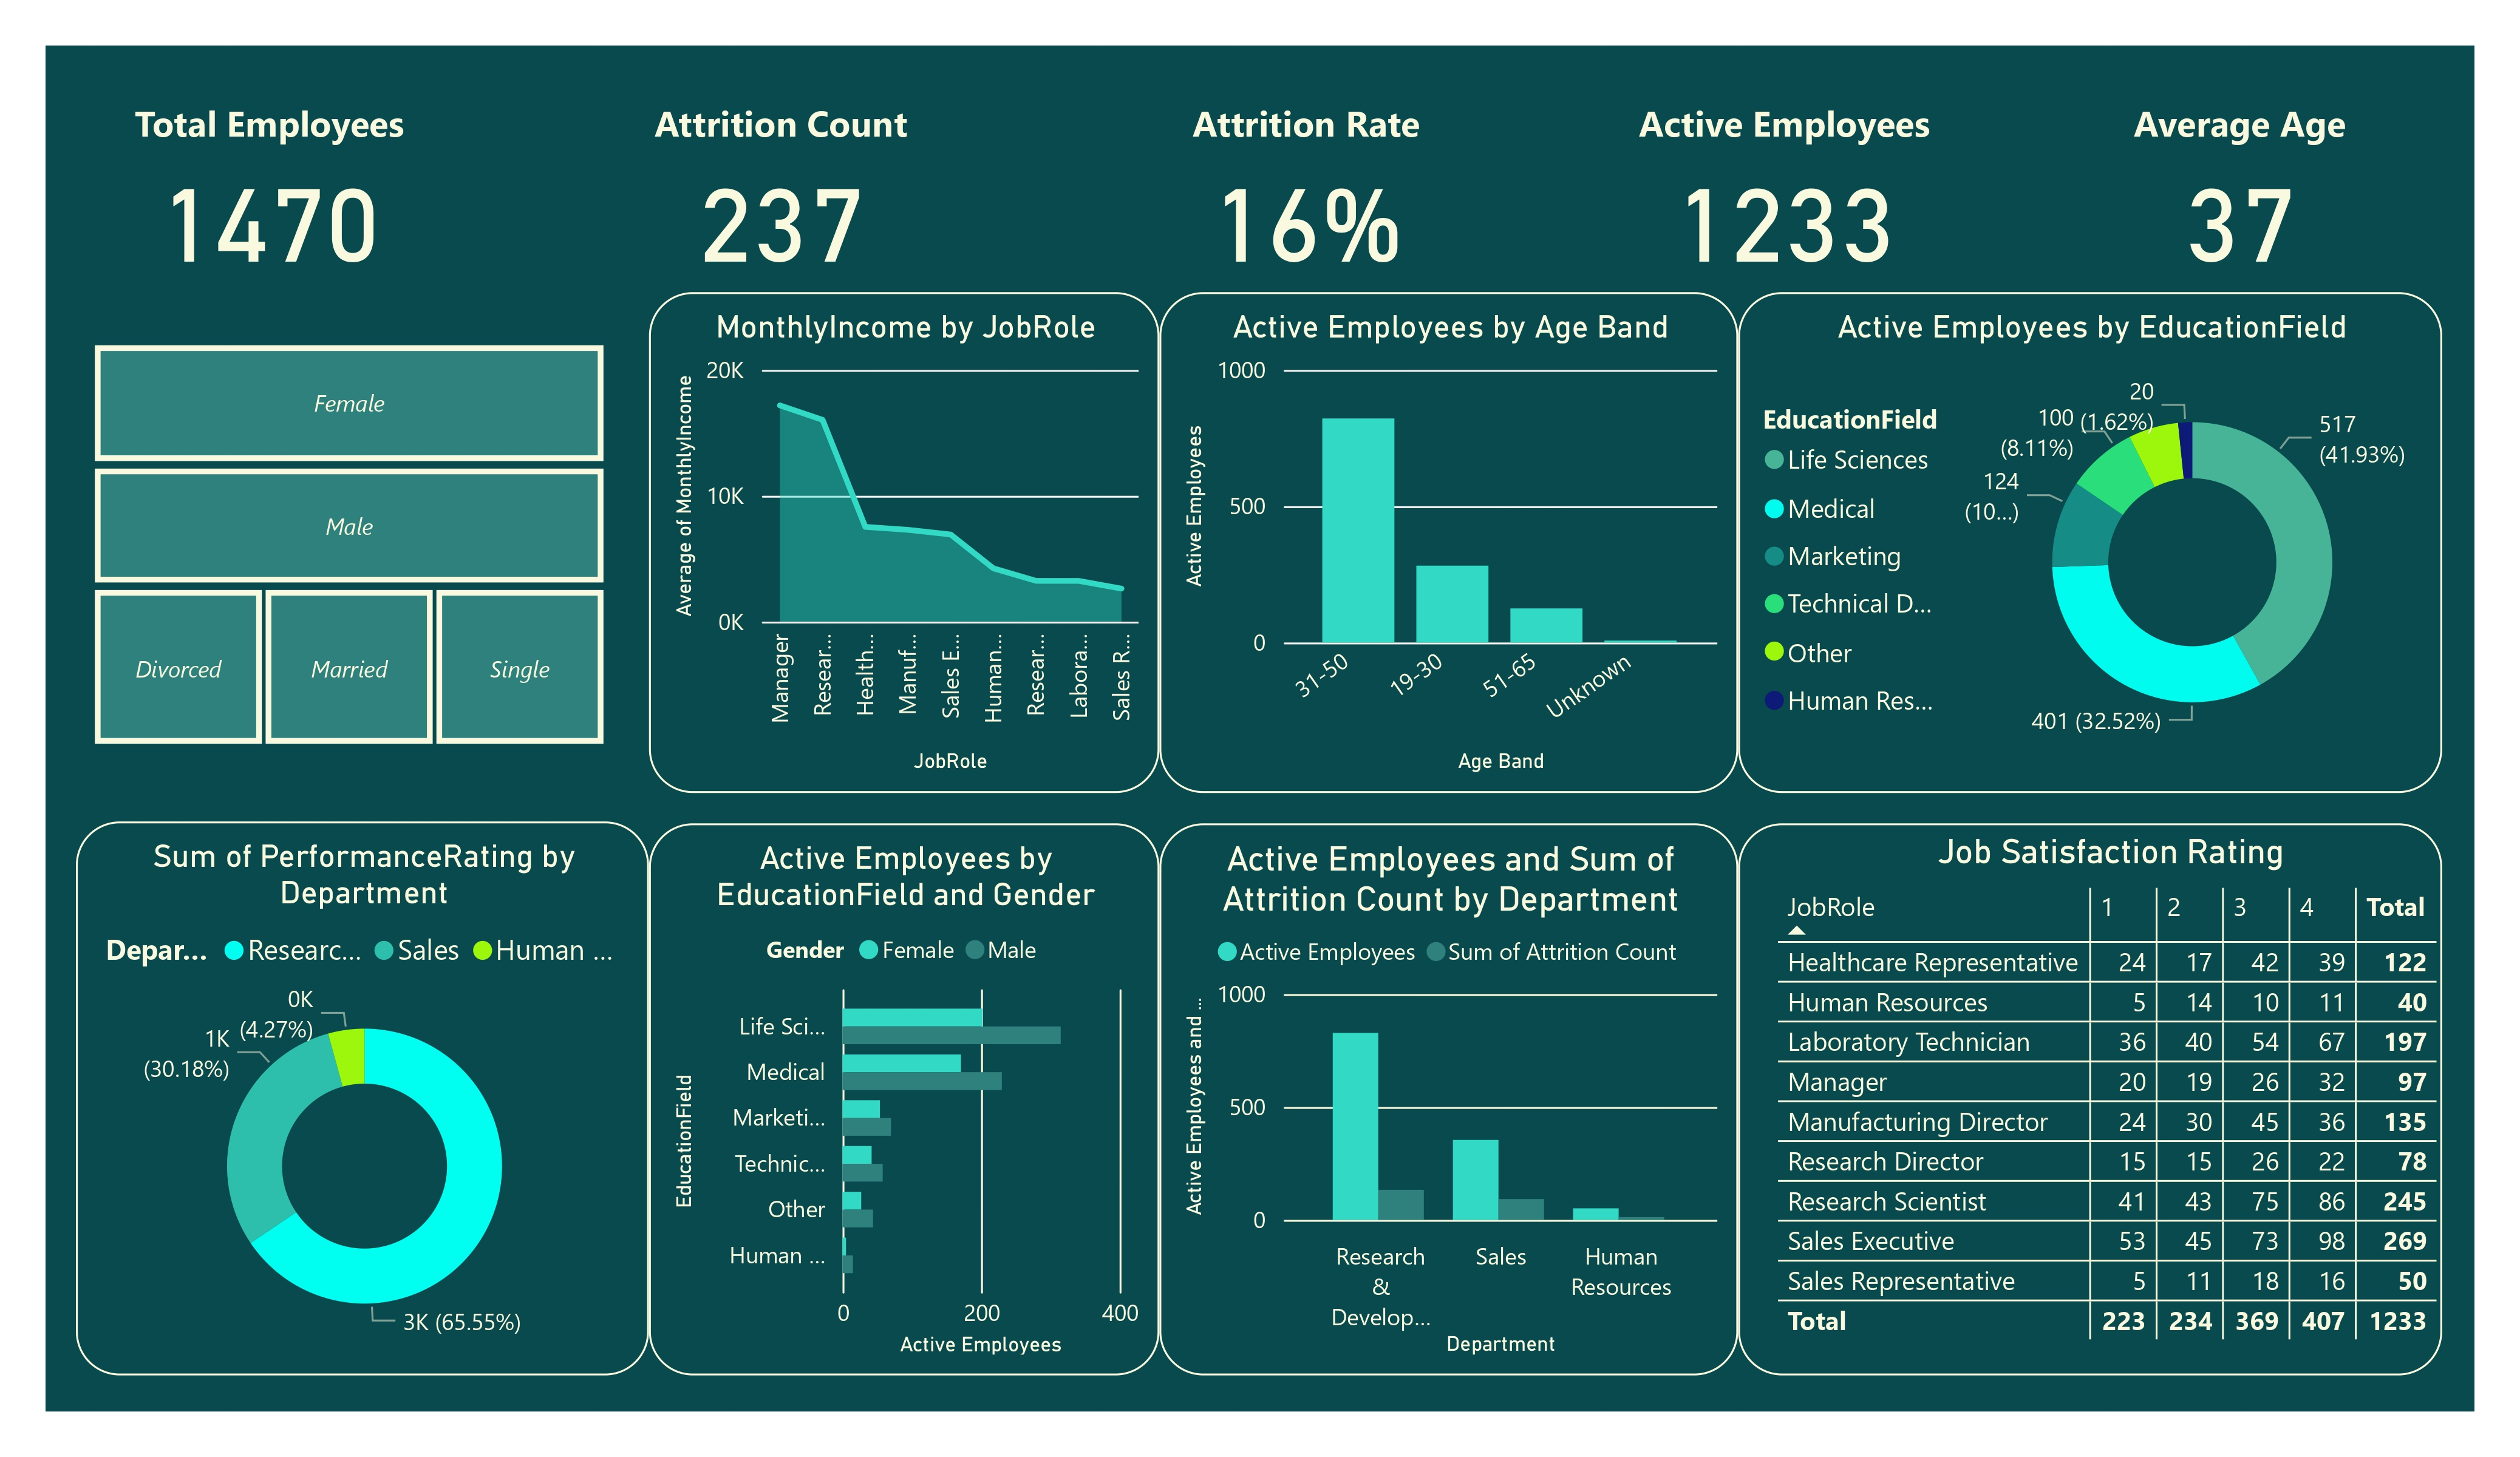

Layout of this report page (visuals, bound fields, positions):
{"tool":"powerbi","page":{"name":"Page 2","canvas":[1280,720],"ordinal":1},"visuals":[{"type":"card","title":"Total Employees","fields":{"Values":["Sum(Worksheet.EmployeeCount)"]},"box":[28.3,28.3,179.5,100.2],"z":0},{"type":"card","title":"Average Age","fields":{"Values":["Avg(Worksheet.Age)"]},"box":[1065.6,27.9,181.2,101.6],"z":1000},{"type":"card","title":"Attrition Rate","fields":{"Values":["Worksheet.Attrition Rate"]},"box":[573.6,27.9,181.2,101.6],"z":2000},{"type":"card","title":"Attrition Count","fields":{"Values":["Sum(Worksheet.Attrition Count)"]},"box":[296.8,27.9,181.2,101.6],"z":3000},{"type":"card","title":"Active Employees","fields":{"Values":["Worksheet.Active Employees"]},"box":[824.6,27.9,183.2,101.6],"z":4000},{"type":"clusteredColumnChart","title":"Active Employees and Sum of Attrition Count by Department","fields":{"Category":["Worksheet.Department"],"Y":["Worksheet.Active Employees","Sum(Worksheet.Attrition Count)"]},"box":[586.9,410.4,305.4,291.1],"z":5000},{"type":"donutChart","fields":{"Y":["Worksheet.Active Employees"],"Category":["Worksheet.EducationField"]},"box":[892.3,130.4,370.6,264],"z":6000},{"type":"columnChart","fields":{"Y":["Worksheet.Active Employees"],"Category":["Worksheet.Age Band"]},"box":[586.9,130.4,305.4,264],"z":7000},{"type":"pivotTable","title":"Job Satisfaction Rating","fields":{"Rows":["Worksheet.JobRole"],"Columns":["Worksheet.JobSatisfaction"],"Values":["Worksheet.Active Employees"]},"box":[892.3,410.4,370.6,291.1],"z":8000},{"type":"donutChart","fields":{"Category":["Worksheet.Department"],"Y":["Sum(Worksheet.PerformanceRating)"]},"box":[15.9,408.8,302.2,292.7],"z":9000},{"type":"clusteredBarChart","fields":{"Y":["Worksheet.Active Employees"],"Category":["Worksheet.EducationField"],"Series":["Worksheet.Gender"]},"box":[318.1,410.4,268.8,291.1],"z":10000},{"type":"areaChart","title":"MonthlyIncome by JobRole","fields":{"Category":["Worksheet.JobRole"],"Y":["Avg(Worksheet.MonthlyIncome)"]},"box":[318.1,130.4,268.8,264],"z":11000},{"type":"slicer","fields":{"Values":["Worksheet.Gender"]},"box":[0,151.1,318.1,133.6],"z":12000},{"type":"slicer","fields":{"Values":["Worksheet.MaritalStatus"]},"box":[0,284.7,318.1,97],"z":13000}]}

Visuals, with their boxes in screenshot pixels (x1, y1, x2, y2):
"Total Employees" card: bbox=(99, 99, 440, 290)
"Average Age" card: bbox=(2068, 98, 2411, 291)
"Attrition Rate" card: bbox=(1134, 98, 1478, 291)
"Attrition Count" card: bbox=(608, 98, 953, 291)
"Active Employees" card: bbox=(1610, 98, 1958, 291)
"Active Employees and Sum of Attrition Count by Department" clusteredColumnChart: bbox=(1159, 824, 1738, 1376)
donutChart - Worksheet.Active Employees x Worksheet.EducationField: bbox=(1738, 293, 2442, 794)
columnChart - Worksheet.Active Employees x Worksheet.Age Band: bbox=(1159, 293, 1738, 794)
"Job Satisfaction Rating" pivotTable: bbox=(1738, 824, 2442, 1376)
donutChart - Worksheet.Department x Sum(Worksheet.PerformanceRating): bbox=(76, 821, 649, 1376)
clusteredBarChart - Worksheet.Active Employees x Worksheet.EducationField: bbox=(649, 824, 1159, 1376)
"MonthlyIncome by JobRole" areaChart: bbox=(649, 293, 1159, 794)
slicer - Worksheet.Gender: bbox=(46, 332, 649, 586)
slicer - Worksheet.MaritalStatus: bbox=(46, 586, 649, 770)
